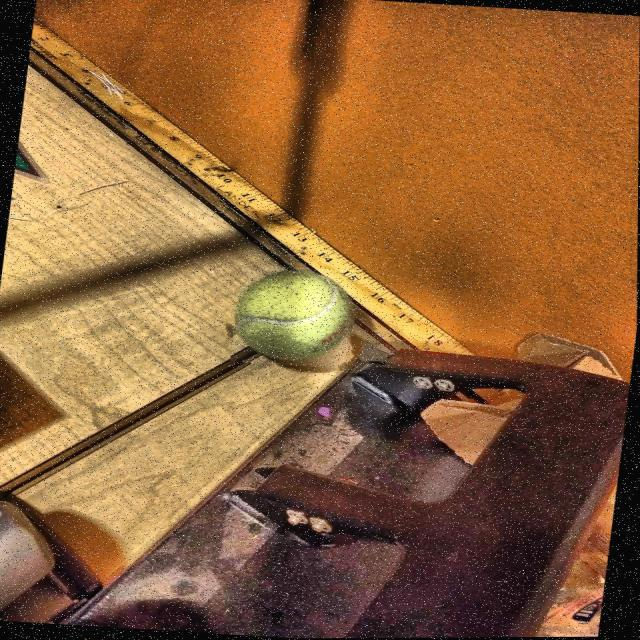tennis-ball: (231, 264, 360, 372)
